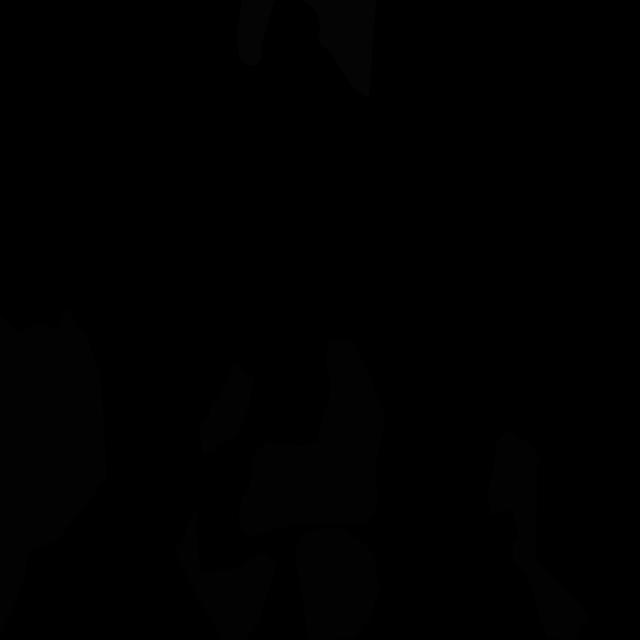cardboard: (0, 307, 107, 636), (238, 340, 386, 536), (487, 429, 589, 640), (174, 510, 278, 640), (296, 528, 380, 640), (198, 363, 254, 455)
soft_plastic: (237, 0, 376, 97)
